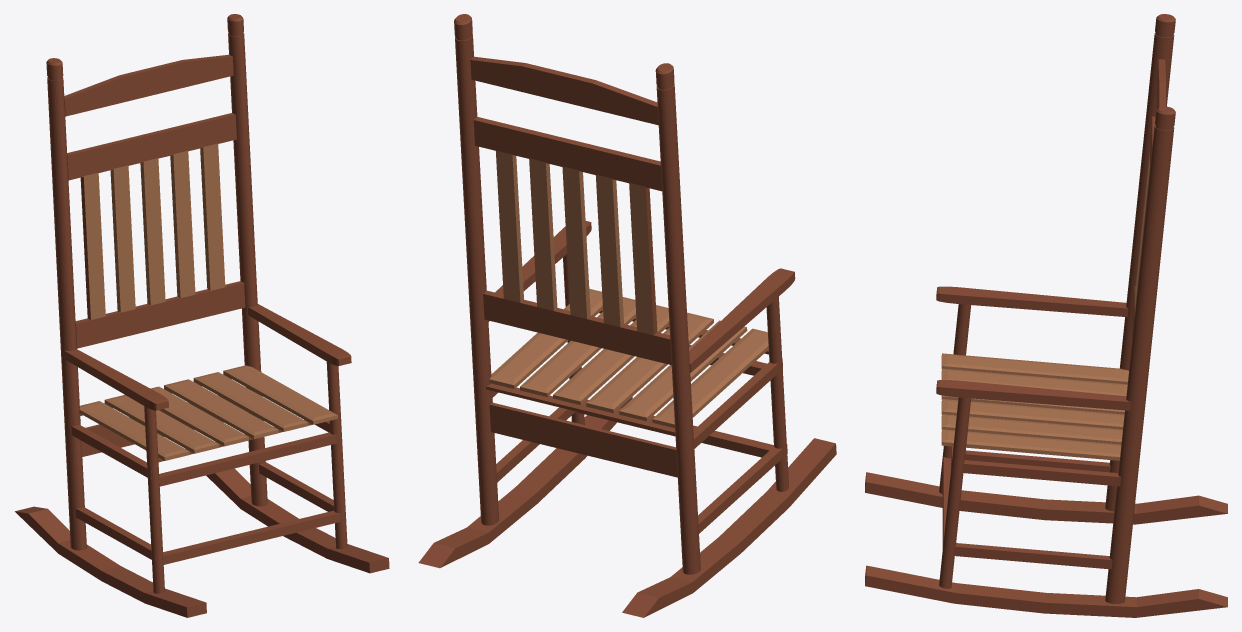
File: rockingChair.glb
3 views of the same model, side by side, from view 1: azimuth 30°, elevation 25°; view 2: azimuth 150°, elevation 25°; view 3: azimuth 270°, elevation 25° (orthographic). The views are drawn at different scales.
Visible parts, largest first — view 1: rockingChair; view 2: rockingChair; view 3: rockingChair.
Part boxes in pixels (<box>): rockingChair: <box>15,14,389,617</box>; rockingChair: <box>418,14,836,617</box>; rockingChair: <box>865,14,1227,617</box>.
Bounding box in the file's own units: 0.5788 × 1.32 × 0.8583.
1 material, 1 textured.
